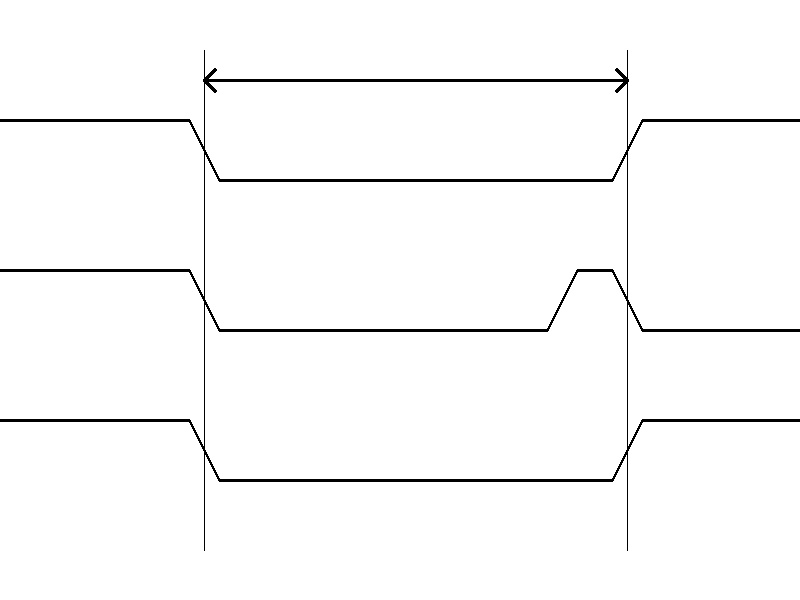double_arrow: (204, 65, 627, 95)
